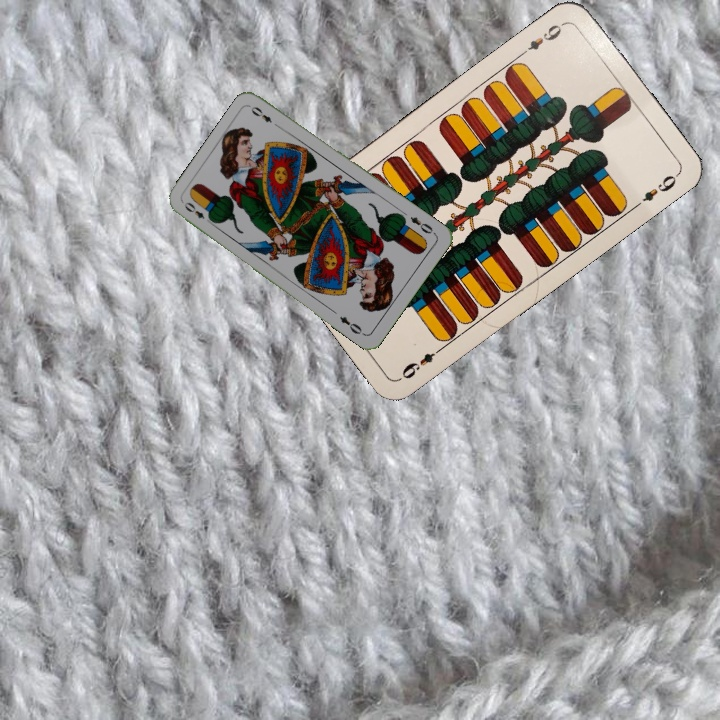E9: (517, 18, 569, 58), (397, 342, 447, 382)
EO: (180, 198, 215, 227), (406, 212, 438, 237)
